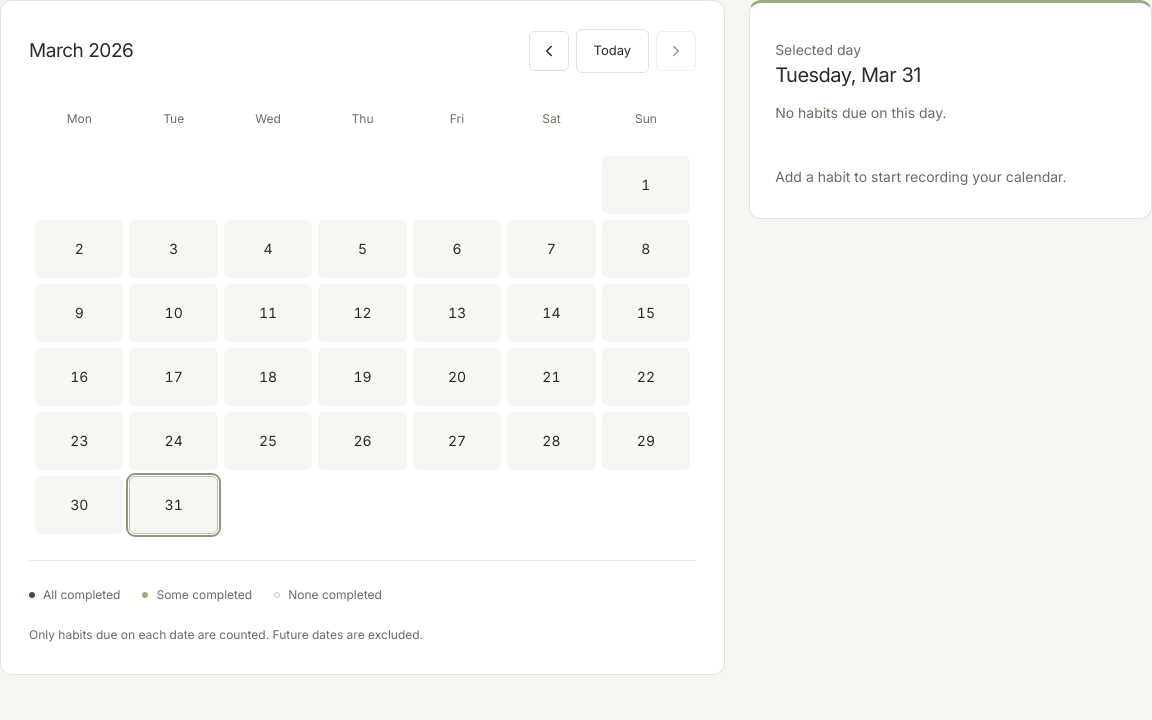
Test: calendar month and history interactions › navigates from the 31st to the previous month without skipping a month
expect the button "31" is shown: met, box [129,476,218,534]
expect the button named "Next month" is disabled: met, box [656,31,696,71]
Click the button named "Previous month".
click(549, 51)  # box [529,31,569,71]
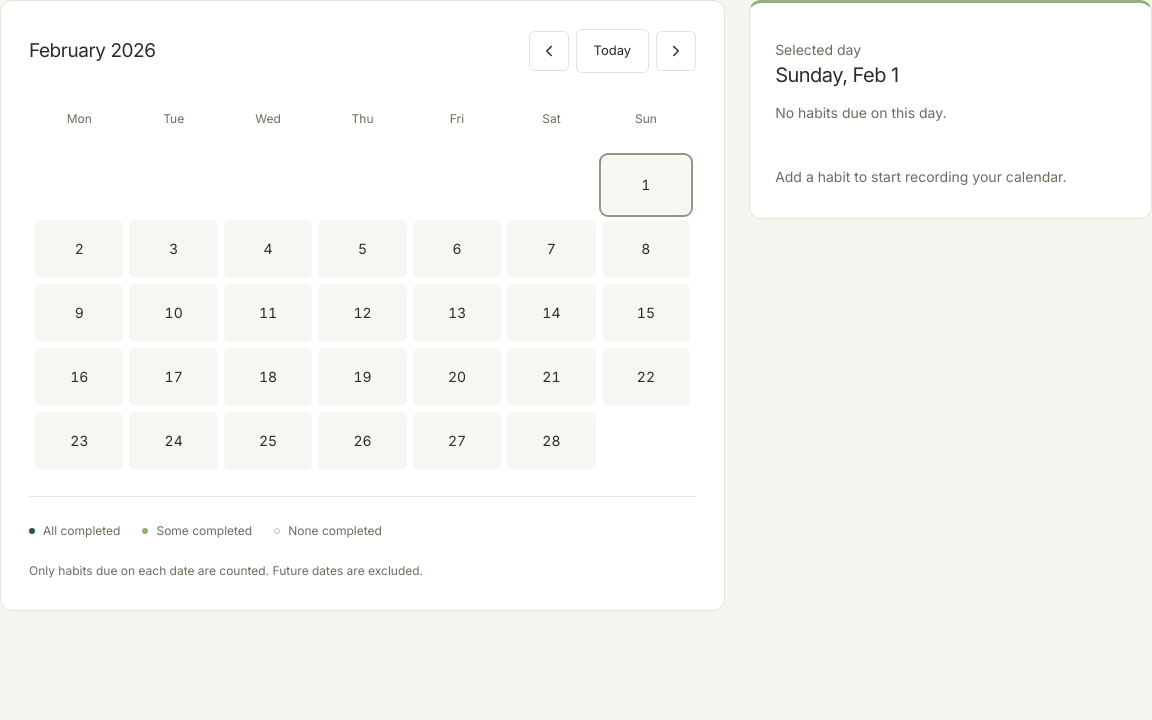
expect the heading "February 2026" is shown: met, box [29,39,156,63]
expect the number of buttons with class "calendar-day" is 28: met
Click the button "Today".
click(612, 51)  # box [576,29,649,73]
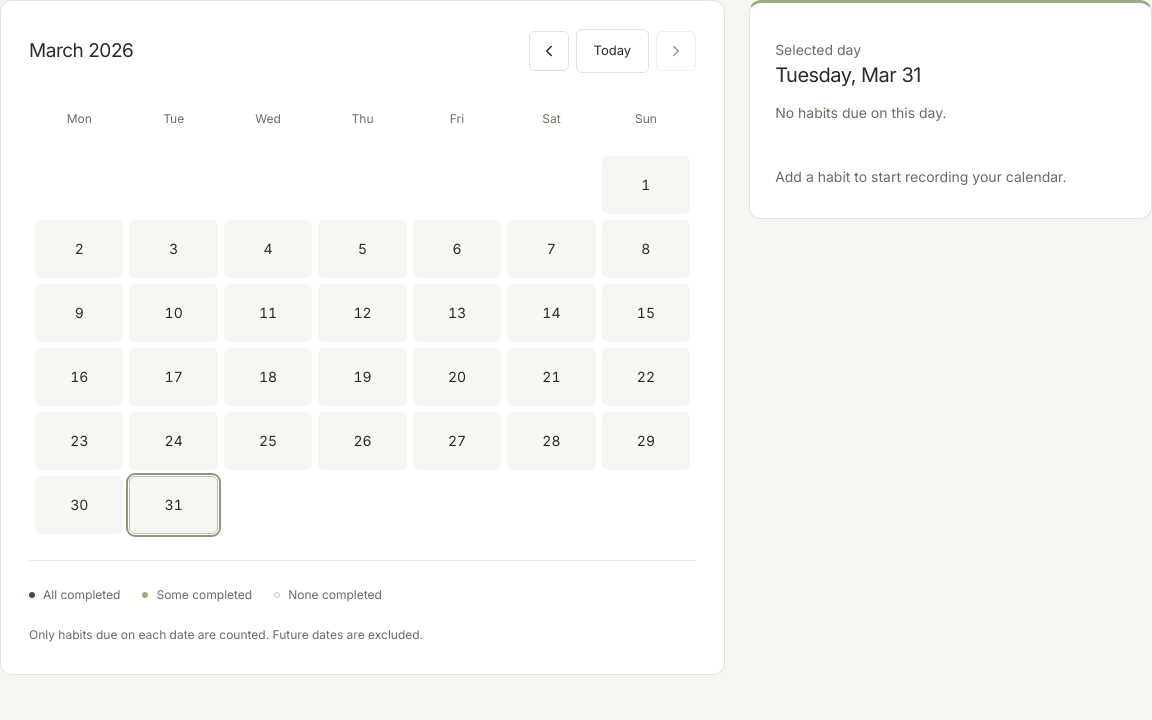
expect the heading "March 2026" is shown: met, box [29,39,133,63]
expect the button "31" is shown: met, box [129,476,218,534]
